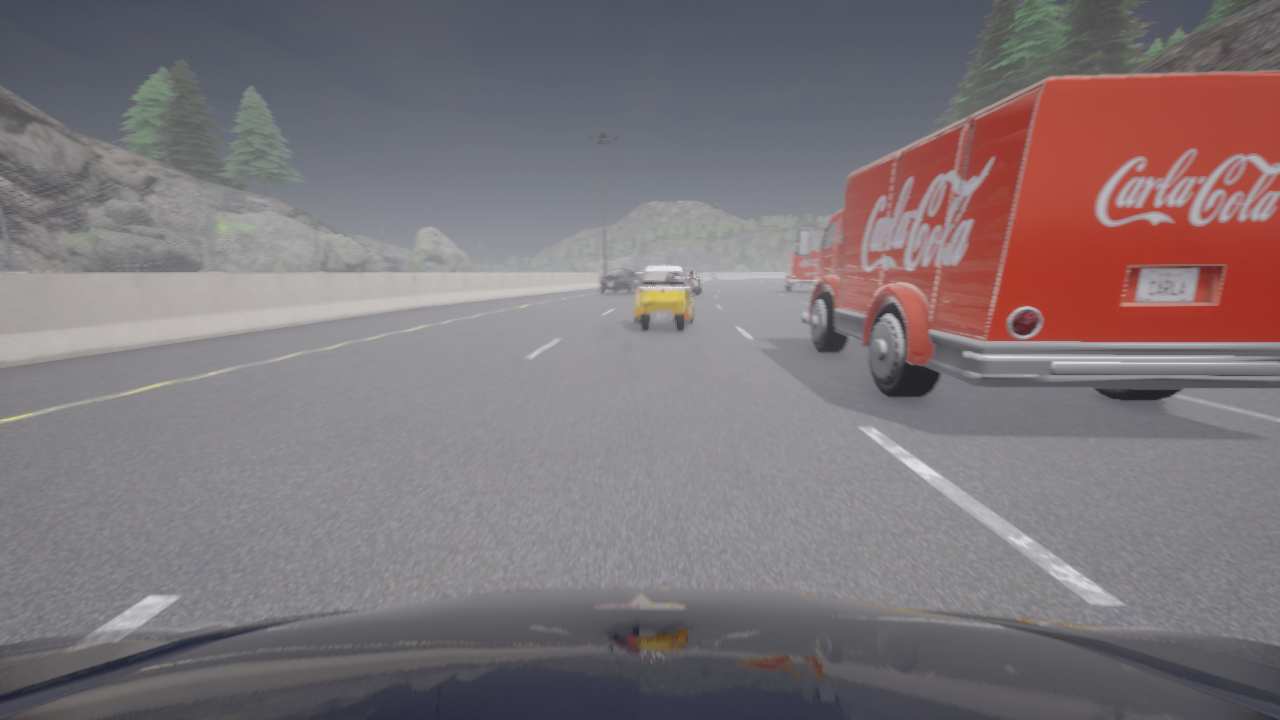cyclist: (0, 588, 1279, 719), (796, 71, 1279, 400), (633, 265, 696, 331), (782, 251, 818, 291), (596, 268, 640, 293), (683, 267, 703, 295)
